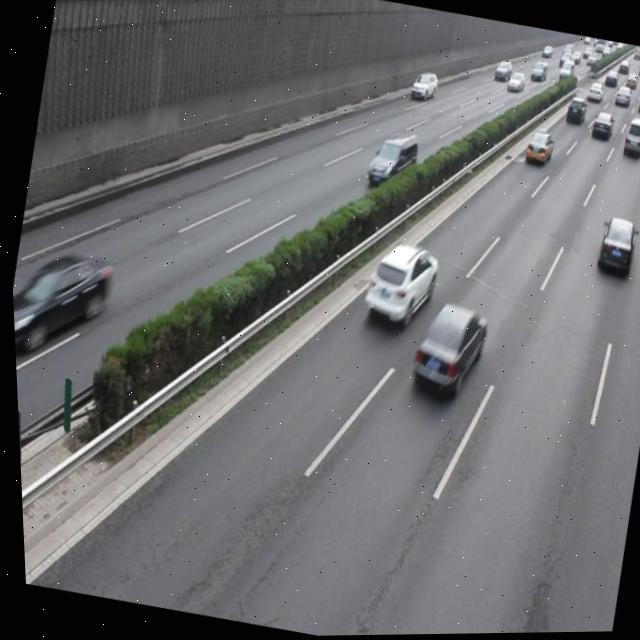car: (8, 240, 115, 367), (399, 295, 489, 405), (355, 235, 442, 331), (589, 213, 636, 278), (520, 128, 553, 170)
truck: (362, 126, 421, 194)
